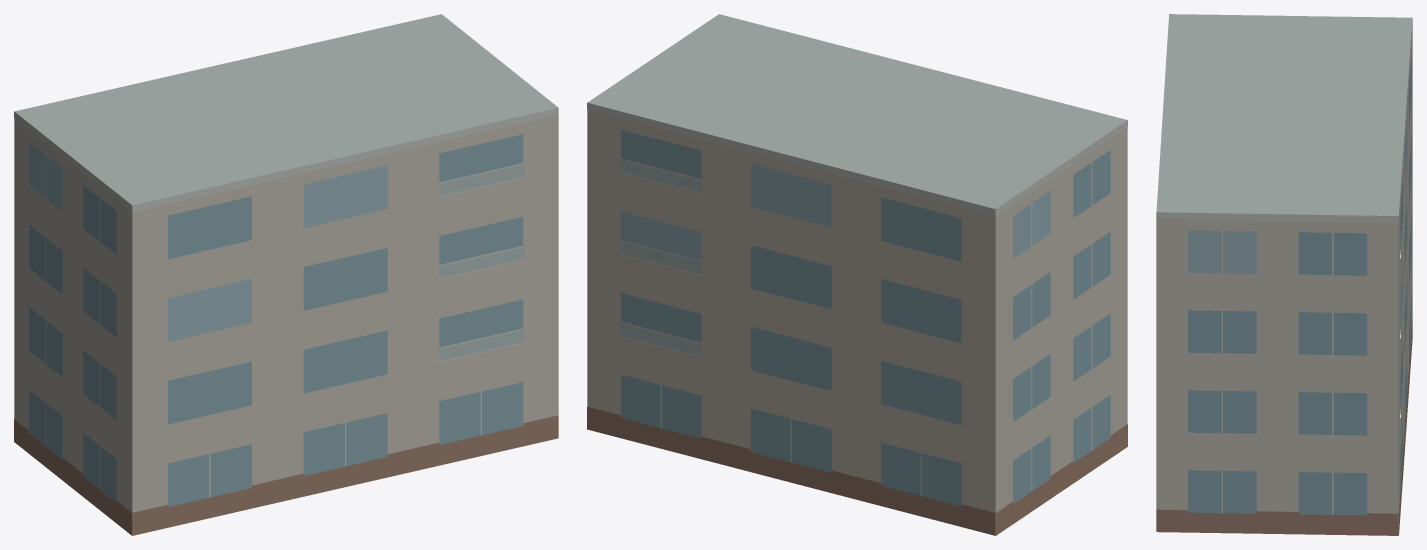
File: survey-upis-32874045.glb
The picture shows the model from 3 angles, left to right: view 1: azimuth 30°, elevation 25°; view 2: azimuth 150°, elevation 25°; view 3: azimuth 270°, elevation 25°; orthographic projection. The views are drawn at different scales.
Parts seen in each view (by area): view 1: survey-upis-32874045.tmp; view 2: survey-upis-32874045.tmp; view 3: survey-upis-32874045.tmp.
Boxes of the visible parts, x1,y1,x2,y2 form: survey-upis-32874045.tmp: (14, 14, 558, 535); survey-upis-32874045.tmp: (587, 14, 1127, 535); survey-upis-32874045.tmp: (1156, 14, 1412, 535).
Bounding box in the file's own units: 15.73 × 11.6 × 8.43.
